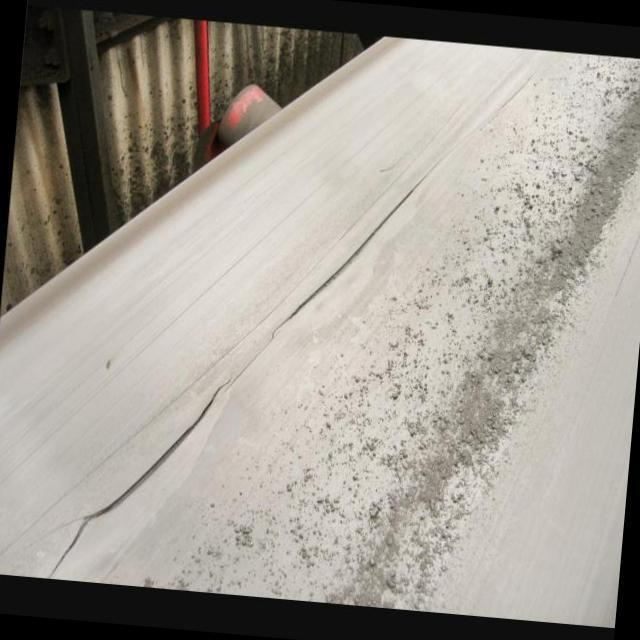Tear: (42, 376, 236, 578), (266, 170, 432, 350)
